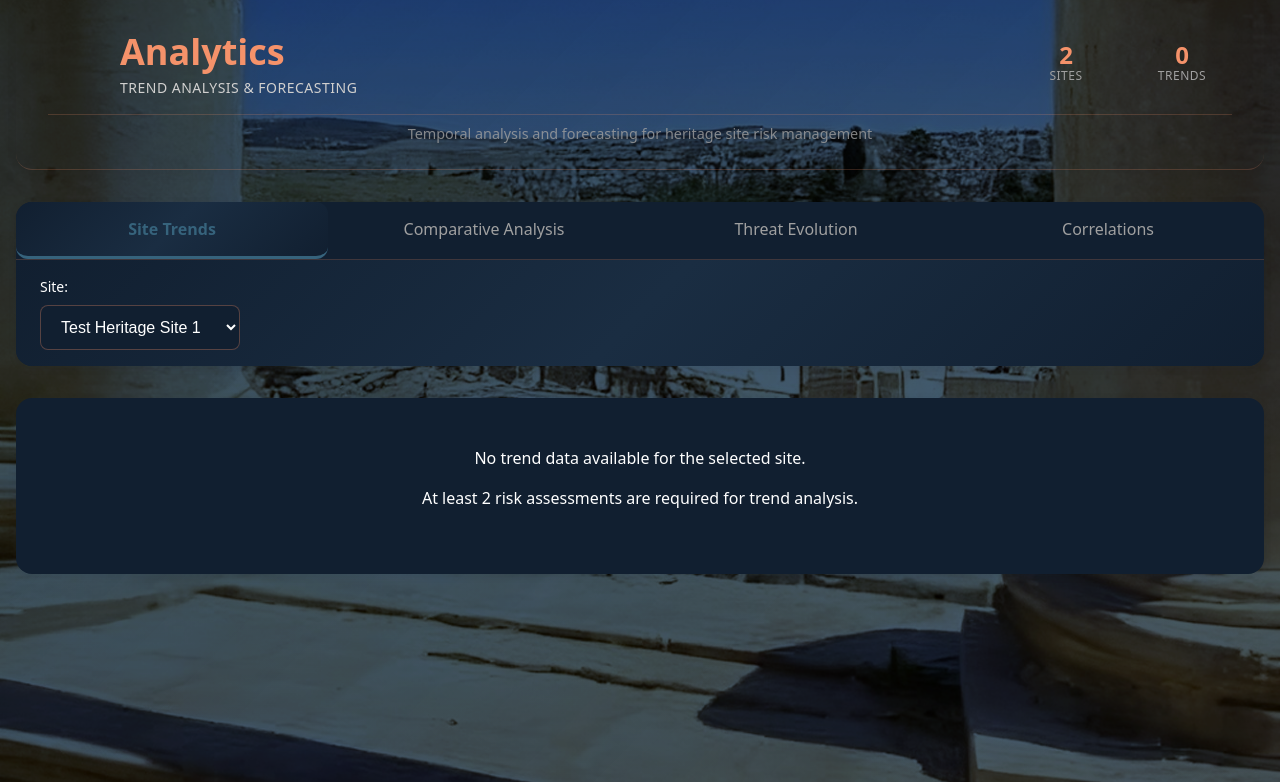
Test: TrendDashboard › shows threat evolution view
The width and height of the screenshot is (1280, 782).
Click the button "Threat Evolution" at (796, 230), box x1=640 y1=202 x2=952 y2=259
(page scrolled)
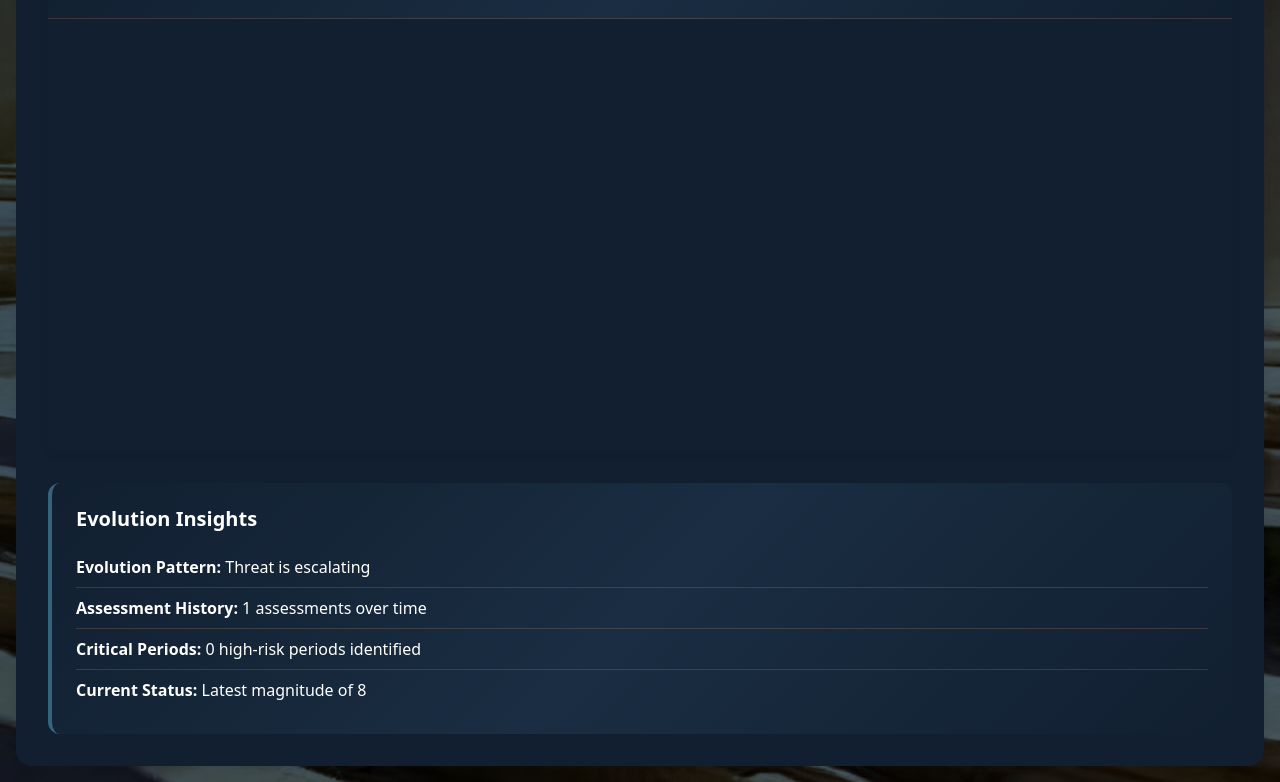
Result: the heading "Evolution Insights" is shown at x1=76 y1=505 x2=257 y2=532
